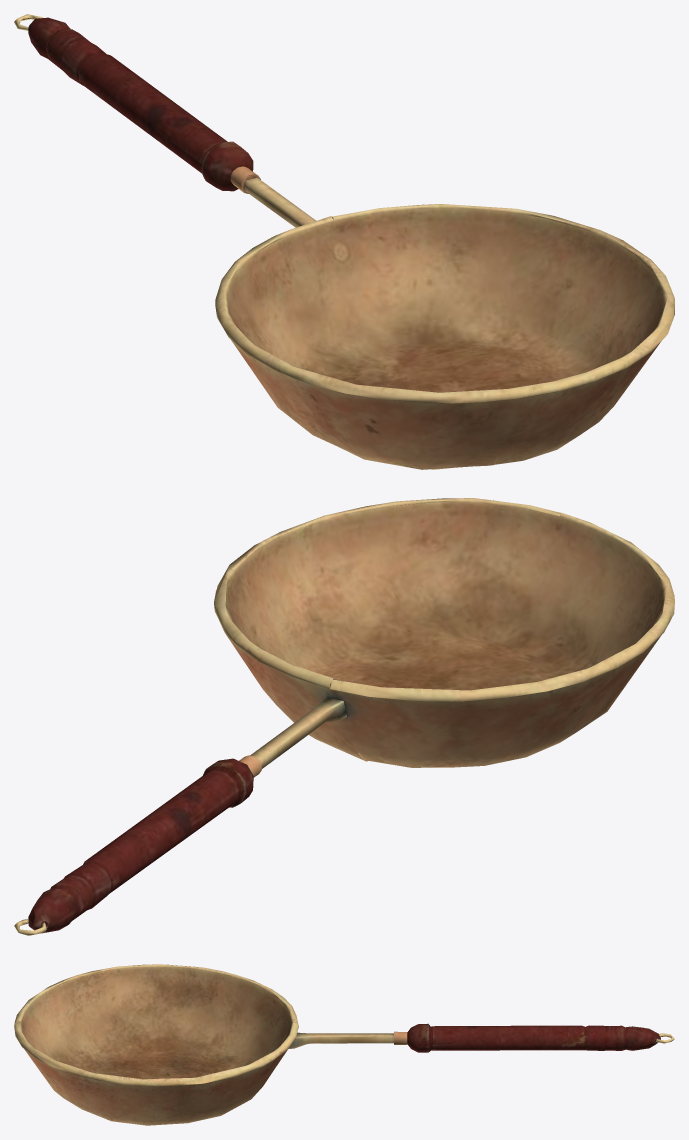
The model's file is brass_pan.glb.
The picture shows the model from 3 angles, top to bottom: view 1: azimuth 30°, elevation 25°; view 2: azimuth 150°, elevation 25°; view 3: azimuth 270°, elevation 25°; orthographic projection. The views are drawn at different scales.
Visible parts, largest first — view 1: brass_pan_01; view 2: brass_pan_01; view 3: brass_pan_01.
Part boxes in pixels (x1,y1,x2,y2): brass_pan_01: (14, 14, 674, 469); brass_pan_01: (14, 498, 674, 935); brass_pan_01: (14, 964, 674, 1125).
Size of the model in its own units: 0.1912 by 0.0525 by 0.4501.
1 material, 1 textured.
